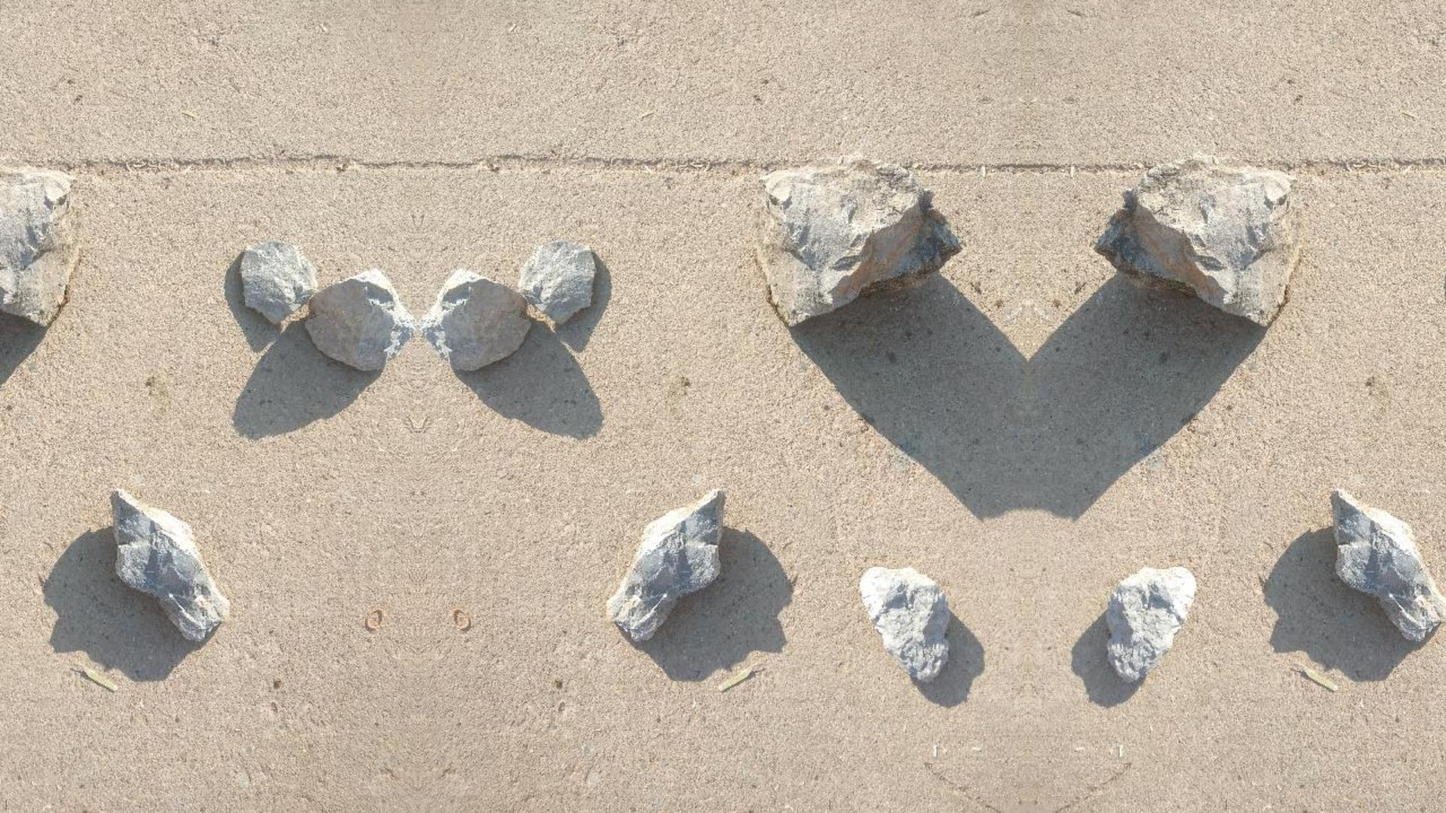rock: (758, 155, 959, 324), (1095, 155, 1296, 324), (606, 489, 724, 641), (111, 489, 228, 640), (1331, 489, 1445, 640), (0, 167, 76, 325), (421, 269, 530, 369), (305, 269, 413, 369), (860, 567, 949, 681), (1106, 567, 1195, 681), (519, 239, 595, 327), (241, 239, 315, 327)
